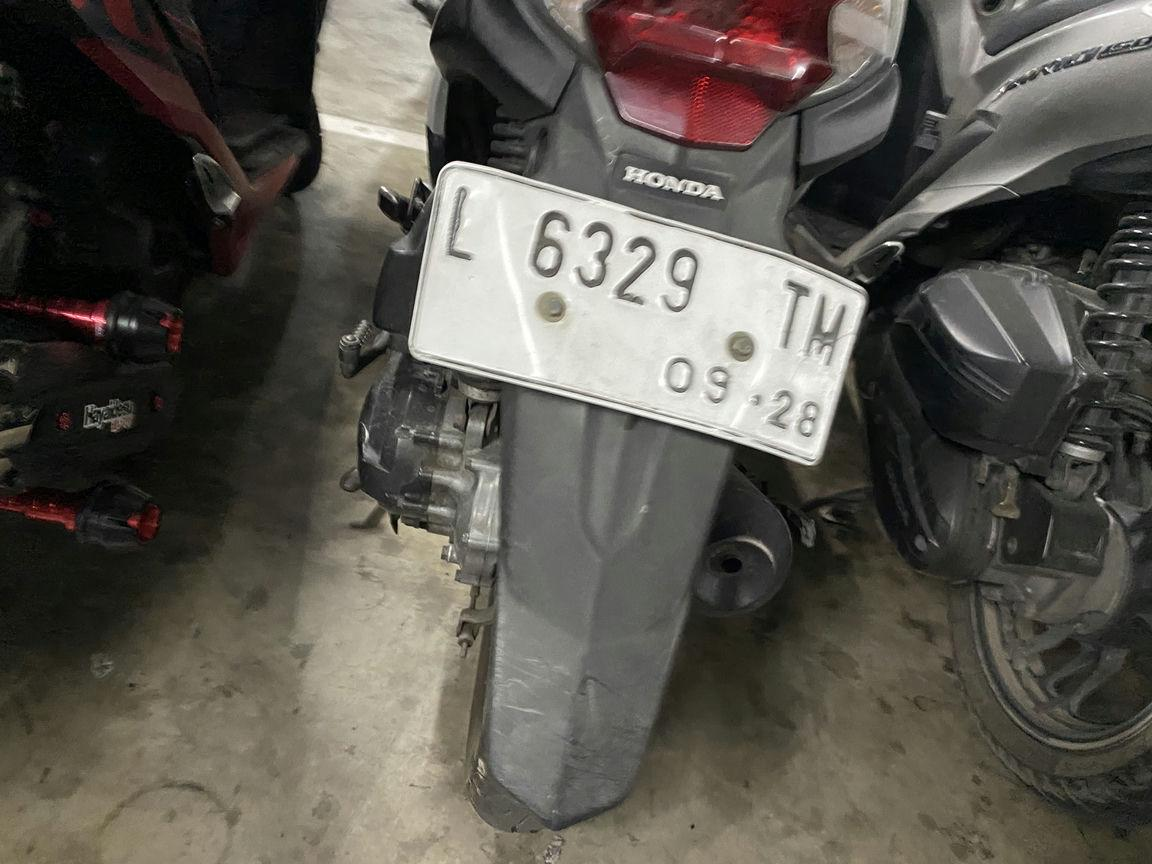plat: (410, 162, 866, 464)
